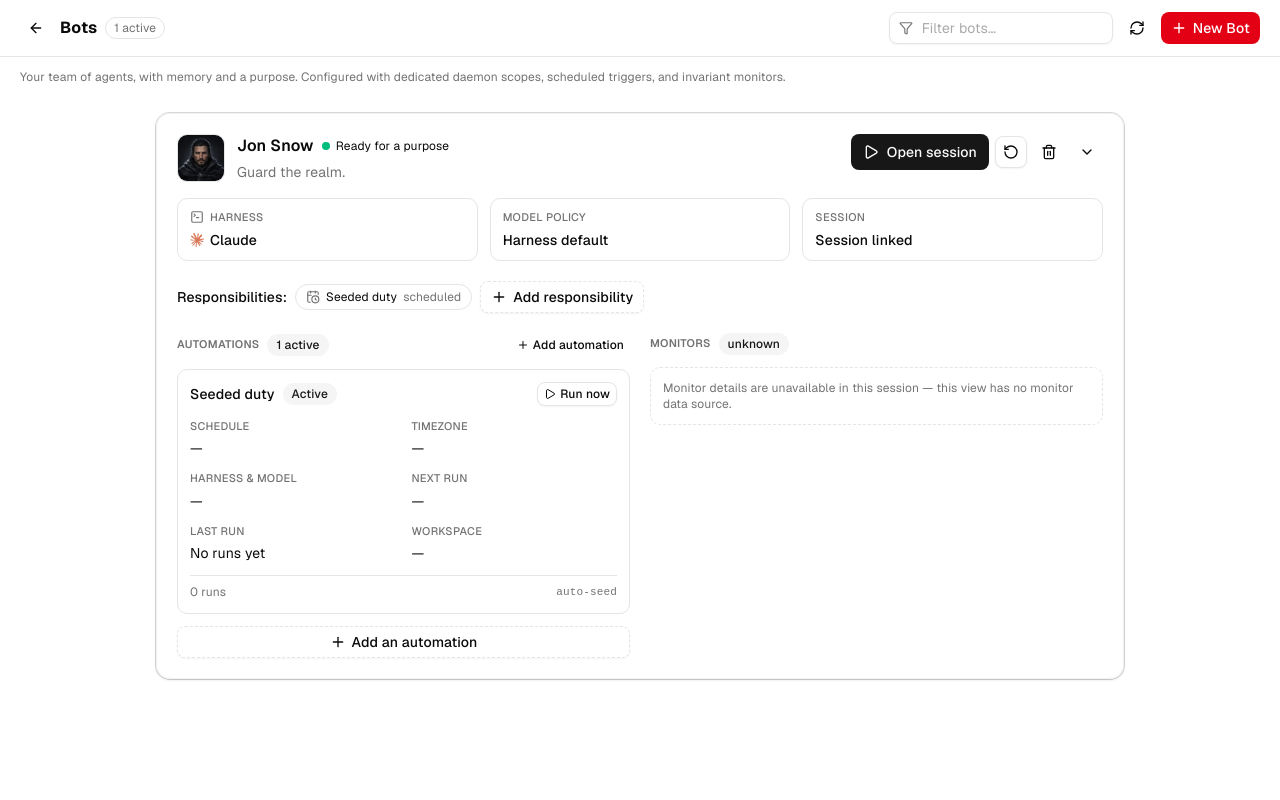
Test: bot open session reuse › says a harness cannot resume rather than pretending a blank session is a continuation
Click the button with test id "open-session-bot-1" at (920, 152), box [851,134,989,170]
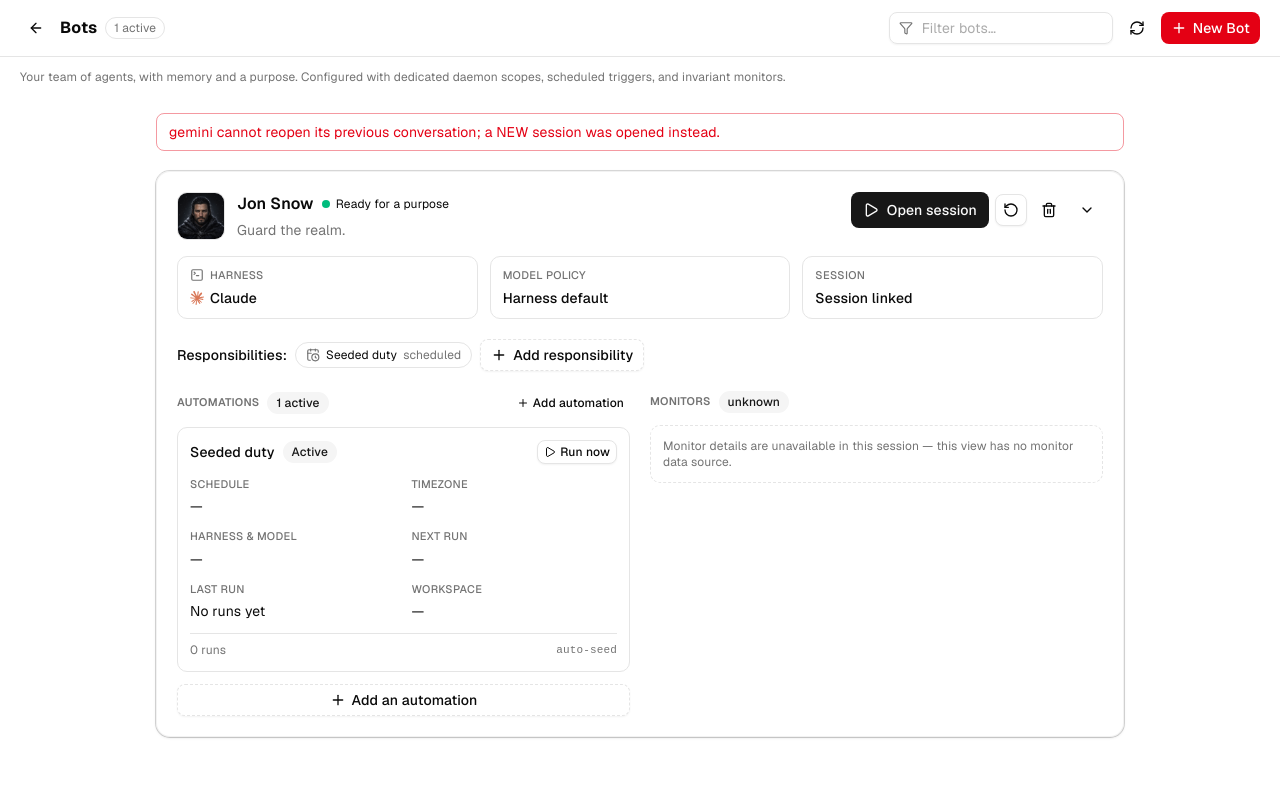
Expected: the message shows "cannot reopen its previous conversation", [169,123,720,141]
